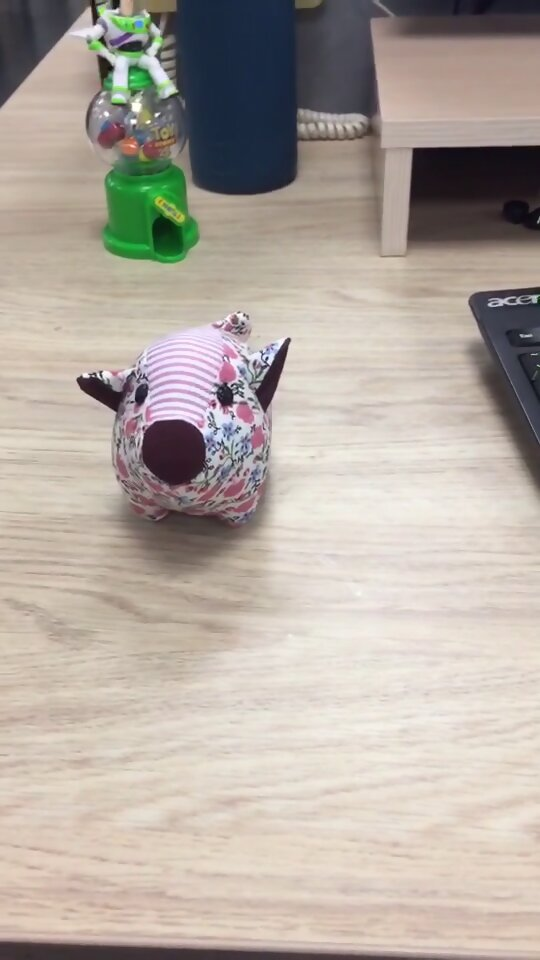pig: (74, 305, 293, 531)
